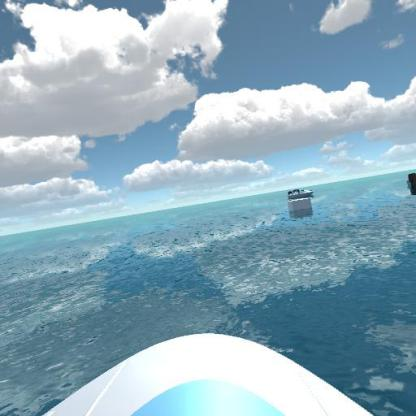usv1: (284, 186, 316, 200), (402, 166, 415, 200)
